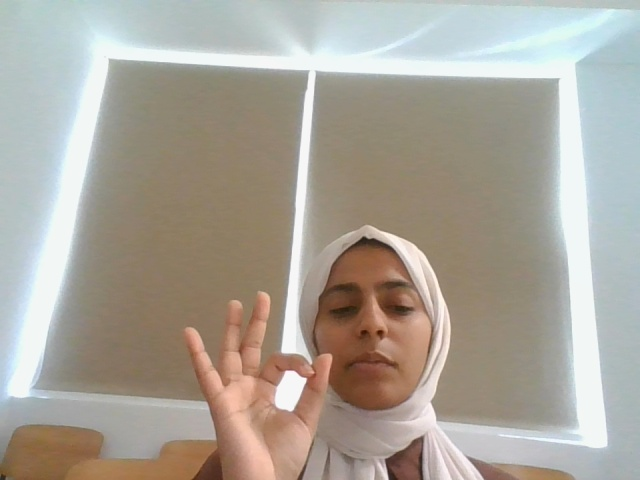okay: (176, 287, 333, 476)
